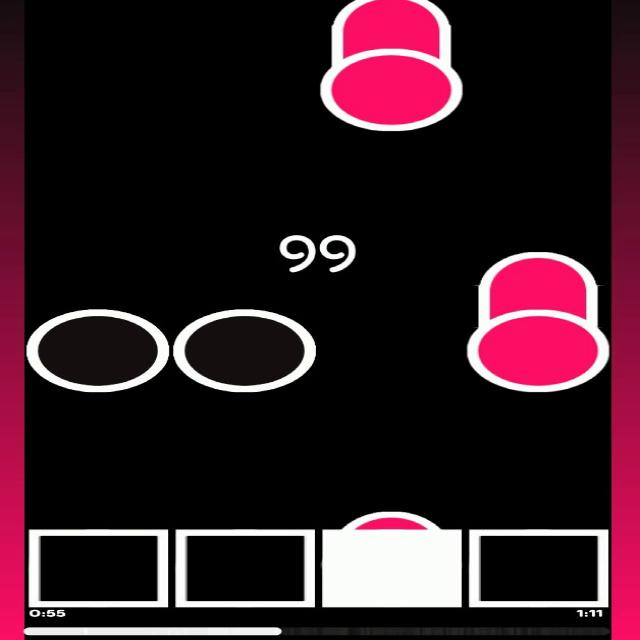end_hold: (480, 246, 596, 287), (320, 0, 461, 31), (326, 504, 457, 530)
note: (26, 308, 169, 394), (176, 308, 316, 394)
start_hold: (464, 298, 608, 392), (319, 44, 464, 132)
